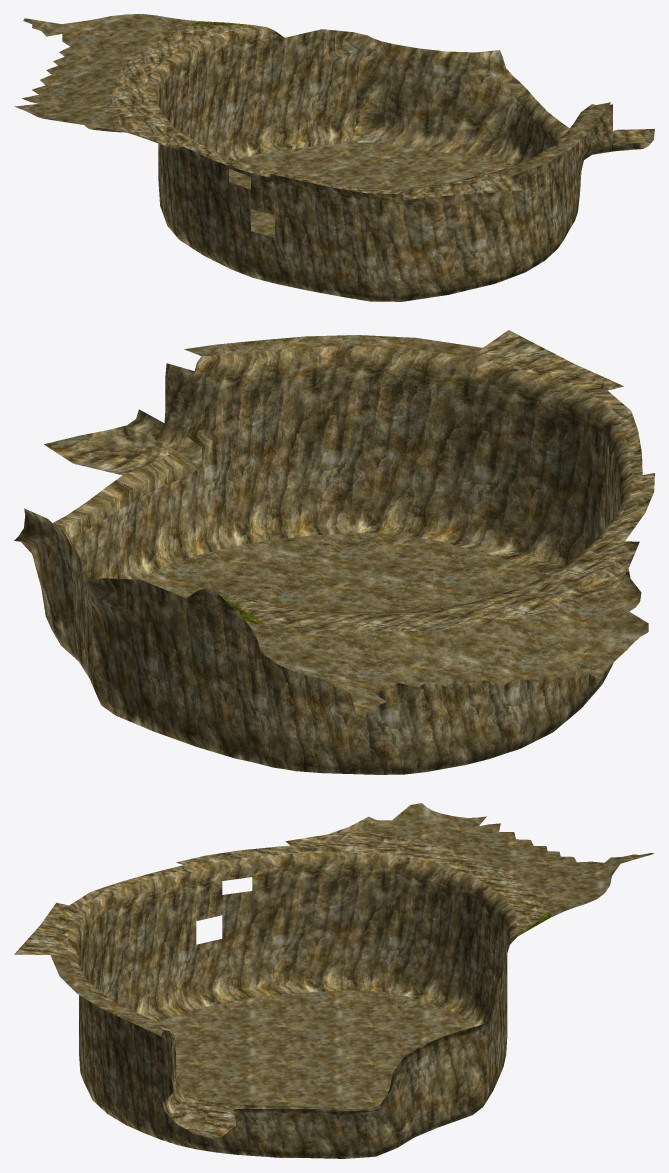
Rendered from RM_PLAYSURFACE_FINAL_MESH05.fbx.
The picture shows the model from 3 angles, top to bottom: view 1: azimuth 30°, elevation 25°; view 2: azimuth 150°, elevation 25°; view 3: azimuth 270°, elevation 25°; orthographic projection. The views are drawn at different scales.
Parts seen in each view (by area): view 1: RM_PLAYSURFACE_FINAL_MESH05; view 2: RM_PLAYSURFACE_FINAL_MESH05; view 3: RM_PLAYSURFACE_FINAL_MESH05.
Boxes of the visible parts, x1,y1,x2,y2 form: RM_PLAYSURFACE_FINAL_MESH05: (14,14,654,301); RM_PLAYSURFACE_FINAL_MESH05: (14,330,654,774); RM_PLAYSURFACE_FINAL_MESH05: (14,803,654,1158).
Size of the model in its own units: 504074 by 117642 by 510751.
4 materials, 4 textured.
